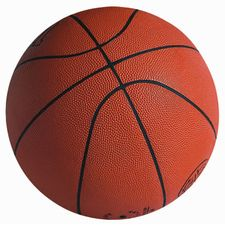basketball: (5, 6, 219, 220)
